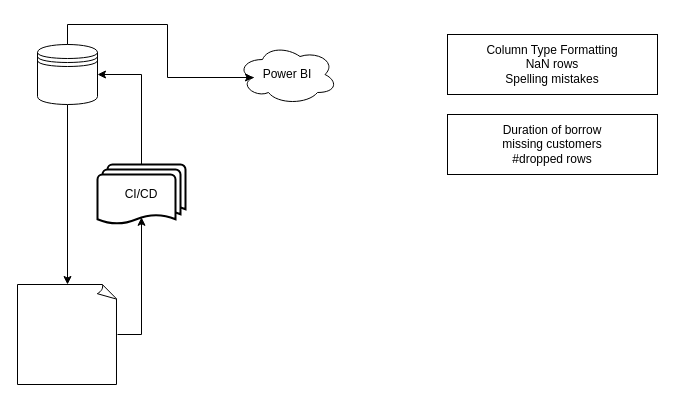
Some shapes in this 675 by 402 pixel diagram are drawn without their labels. Here are the shapes that lost their labels. From the top down, the centre of each, then its label:
At (x=67, y=74): "GitHub".
At (x=67, y=334): "Python ingestion & transformation".
